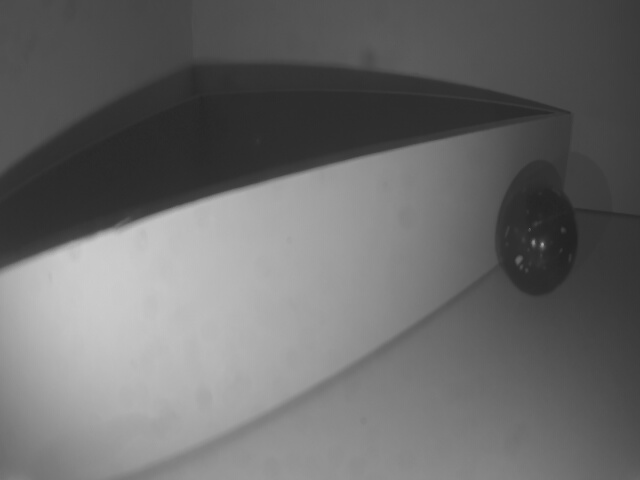Dead: (500, 184, 584, 297)
Red: (0, 116, 575, 480)
